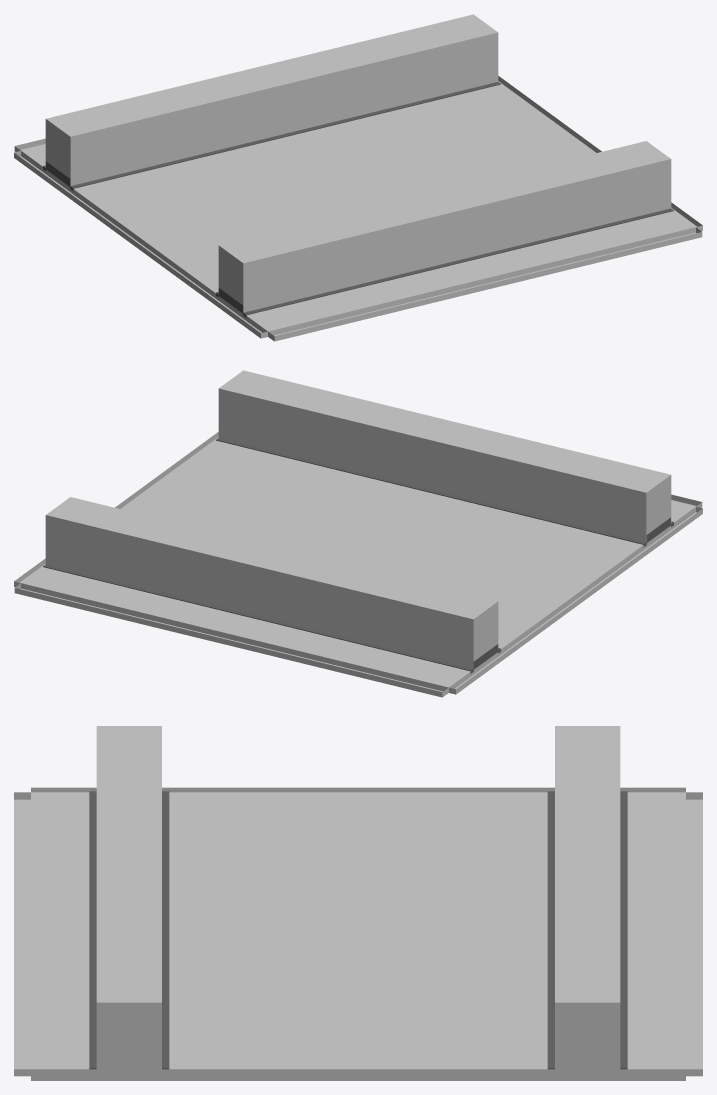
The model's file is office_ceiling_type2.fbx.
3 renders of one model, top to bottom at view 1: azimuth 30°, elevation 25°; view 2: azimuth 150°, elevation 25°; view 3: azimuth 270°, elevation 25°, orthographic. The views are drawn at different scales.
Parts seen in each view (by area): view 1: Floor2, pCube29; view 2: Floor2, pCube29; view 3: Floor2, pCube29.
Part boxes in pixels (x1=…): Floor2: x1=14, y1=14, x2=702, y2=341; pCube29: x1=43, y1=82, x2=673, y2=317; Floor2: x1=14, y1=370, x2=702, y2=697; pCube29: x1=43, y1=438, x2=673, y2=673; Floor2: x1=14, y1=726, x2=702, y2=1080; pCube29: x1=89, y1=791, x2=627, y2=1069.
Bounding box in the file's own units: 3.1 × 0.3718 × 3.16.
